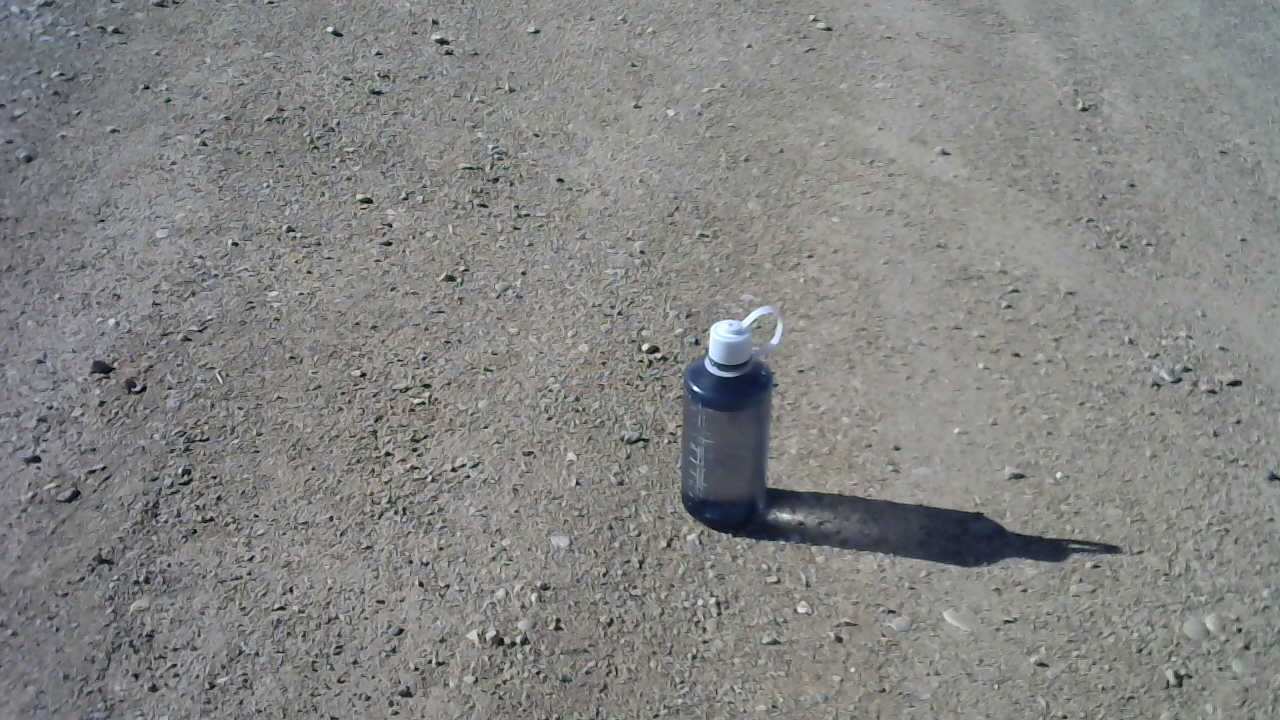bottle: (675, 300, 789, 535)
